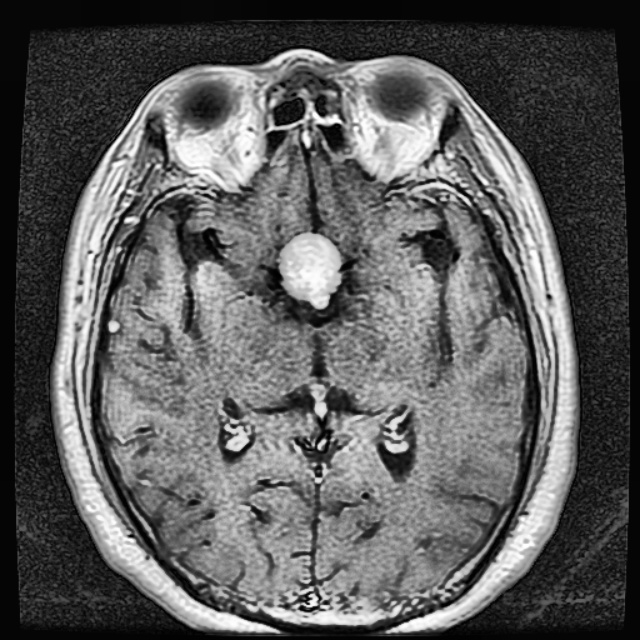Pituitary: (282, 235, 340, 302)
